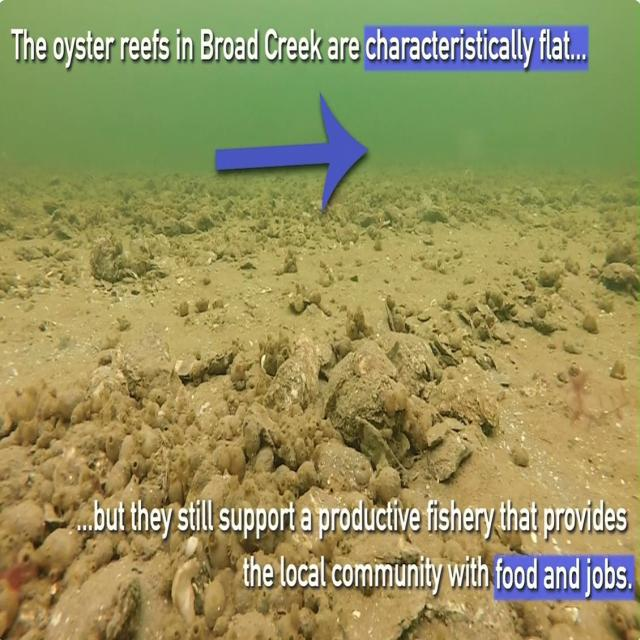Oyster- Indeterminate: (422, 350, 520, 447), (375, 317, 449, 401), (345, 411, 413, 497), (331, 587, 440, 640), (70, 561, 141, 640), (176, 365, 251, 439), (115, 327, 178, 401), (74, 350, 134, 414), (29, 519, 89, 581), (312, 436, 374, 494), (418, 428, 475, 484), (0, 491, 57, 546), (262, 354, 310, 411), (290, 333, 329, 402), (167, 556, 201, 627), (199, 339, 245, 379), (171, 349, 212, 391), (89, 233, 123, 282), (410, 195, 451, 235), (512, 602, 553, 640), (0, 457, 31, 504), (47, 208, 84, 244), (309, 194, 344, 227), (466, 340, 499, 374), (0, 578, 19, 637), (600, 263, 639, 290), (604, 235, 638, 265), (42, 500, 73, 530), (221, 234, 251, 264), (379, 202, 410, 231), (124, 231, 152, 263), (203, 229, 230, 260), (467, 310, 493, 341), (537, 260, 565, 287), (487, 320, 513, 349), (474, 299, 499, 328), (547, 622, 586, 640), (121, 251, 149, 276), (191, 206, 216, 234), (40, 192, 66, 217), (455, 306, 479, 333), (527, 292, 550, 320), (548, 605, 580, 625), (509, 304, 534, 328), (336, 221, 360, 246), (0, 404, 14, 438), (485, 287, 504, 308), (358, 210, 380, 228), (582, 311, 599, 334), (511, 446, 529, 467), (161, 218, 180, 236), (610, 360, 626, 380), (204, 249, 220, 268), (180, 217, 197, 234), (142, 178, 158, 194), (204, 252, 218, 264), (49, 177, 60, 184), (195, 261, 200, 265)
Oyster-Closed: (519, 188, 545, 206)
Oyster-Open: (303, 335, 420, 451), (146, 256, 172, 279), (121, 267, 140, 281)
